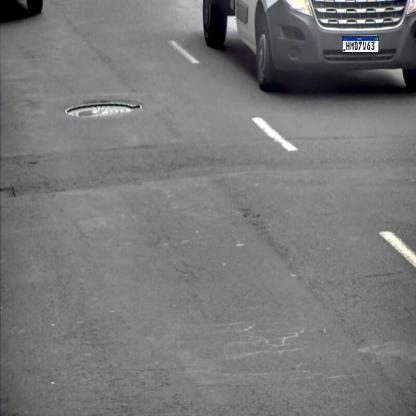PlacaM: (342, 36, 379, 53)
